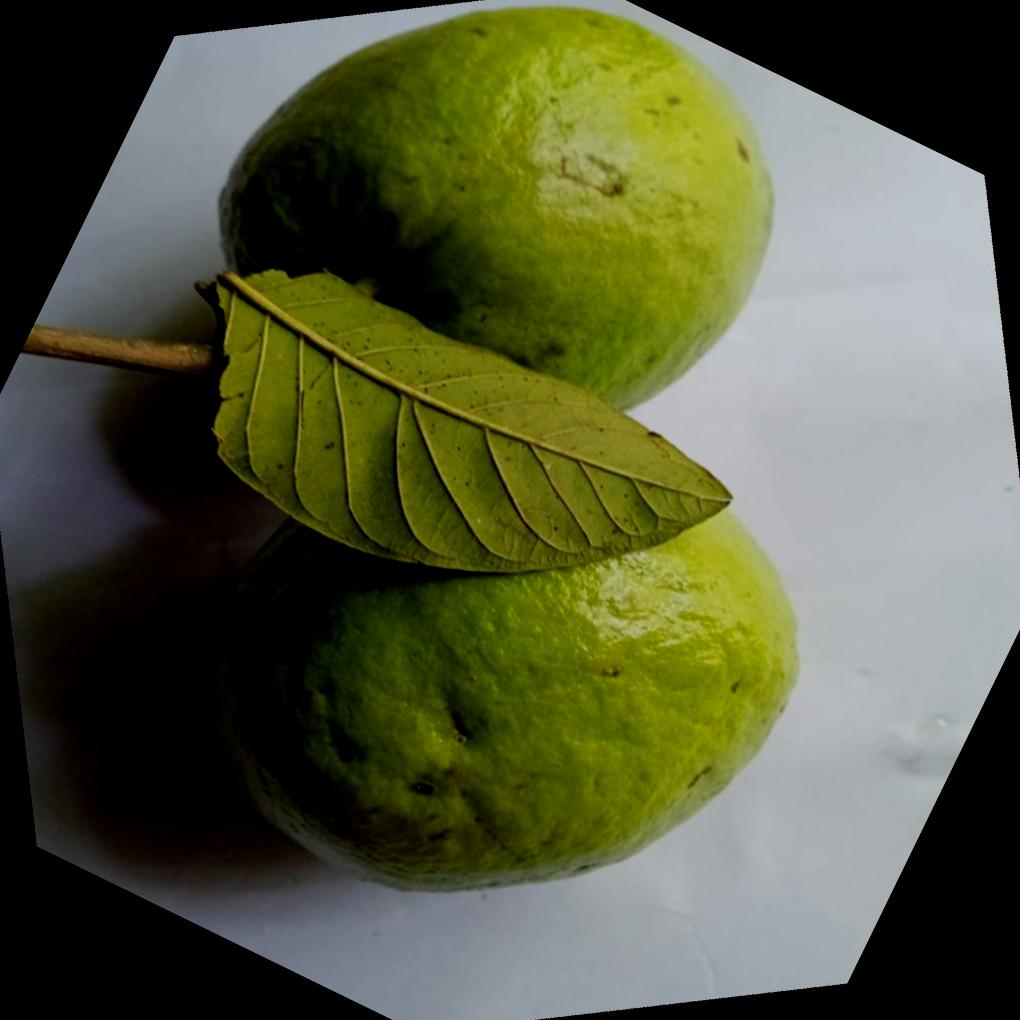FreshGuava: (166, 0, 803, 896)
